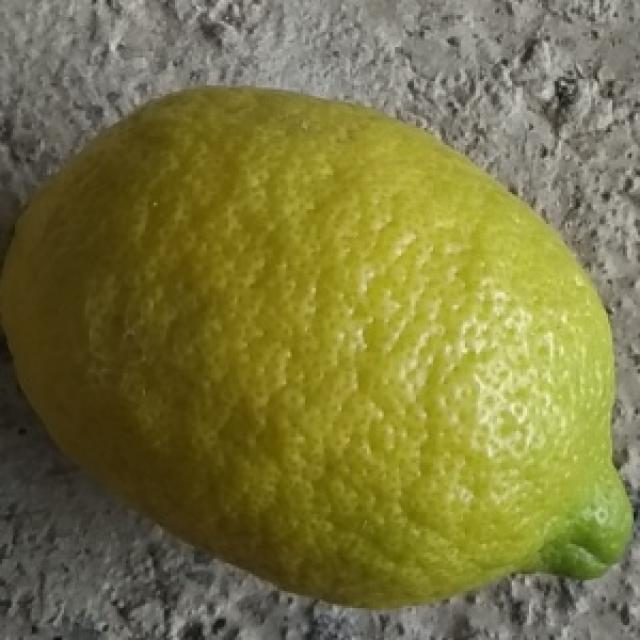Lemon: (0, 82, 635, 613)
